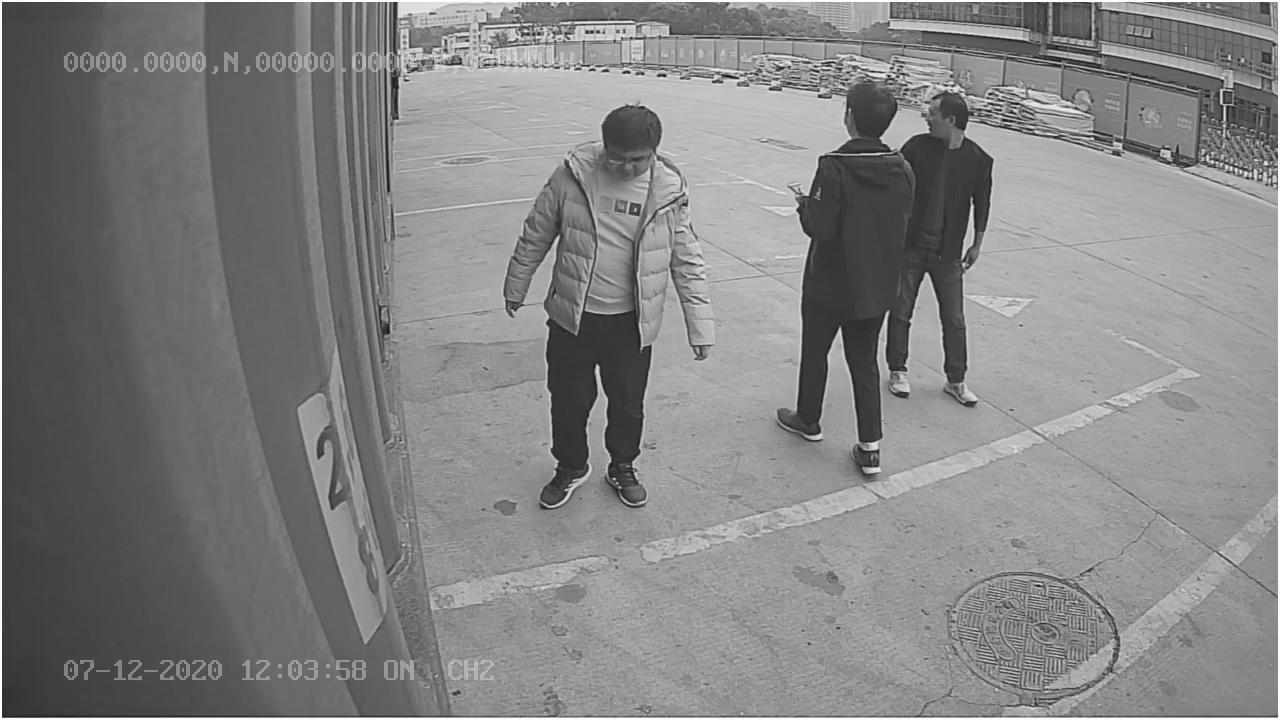person: (503, 100, 719, 516)
